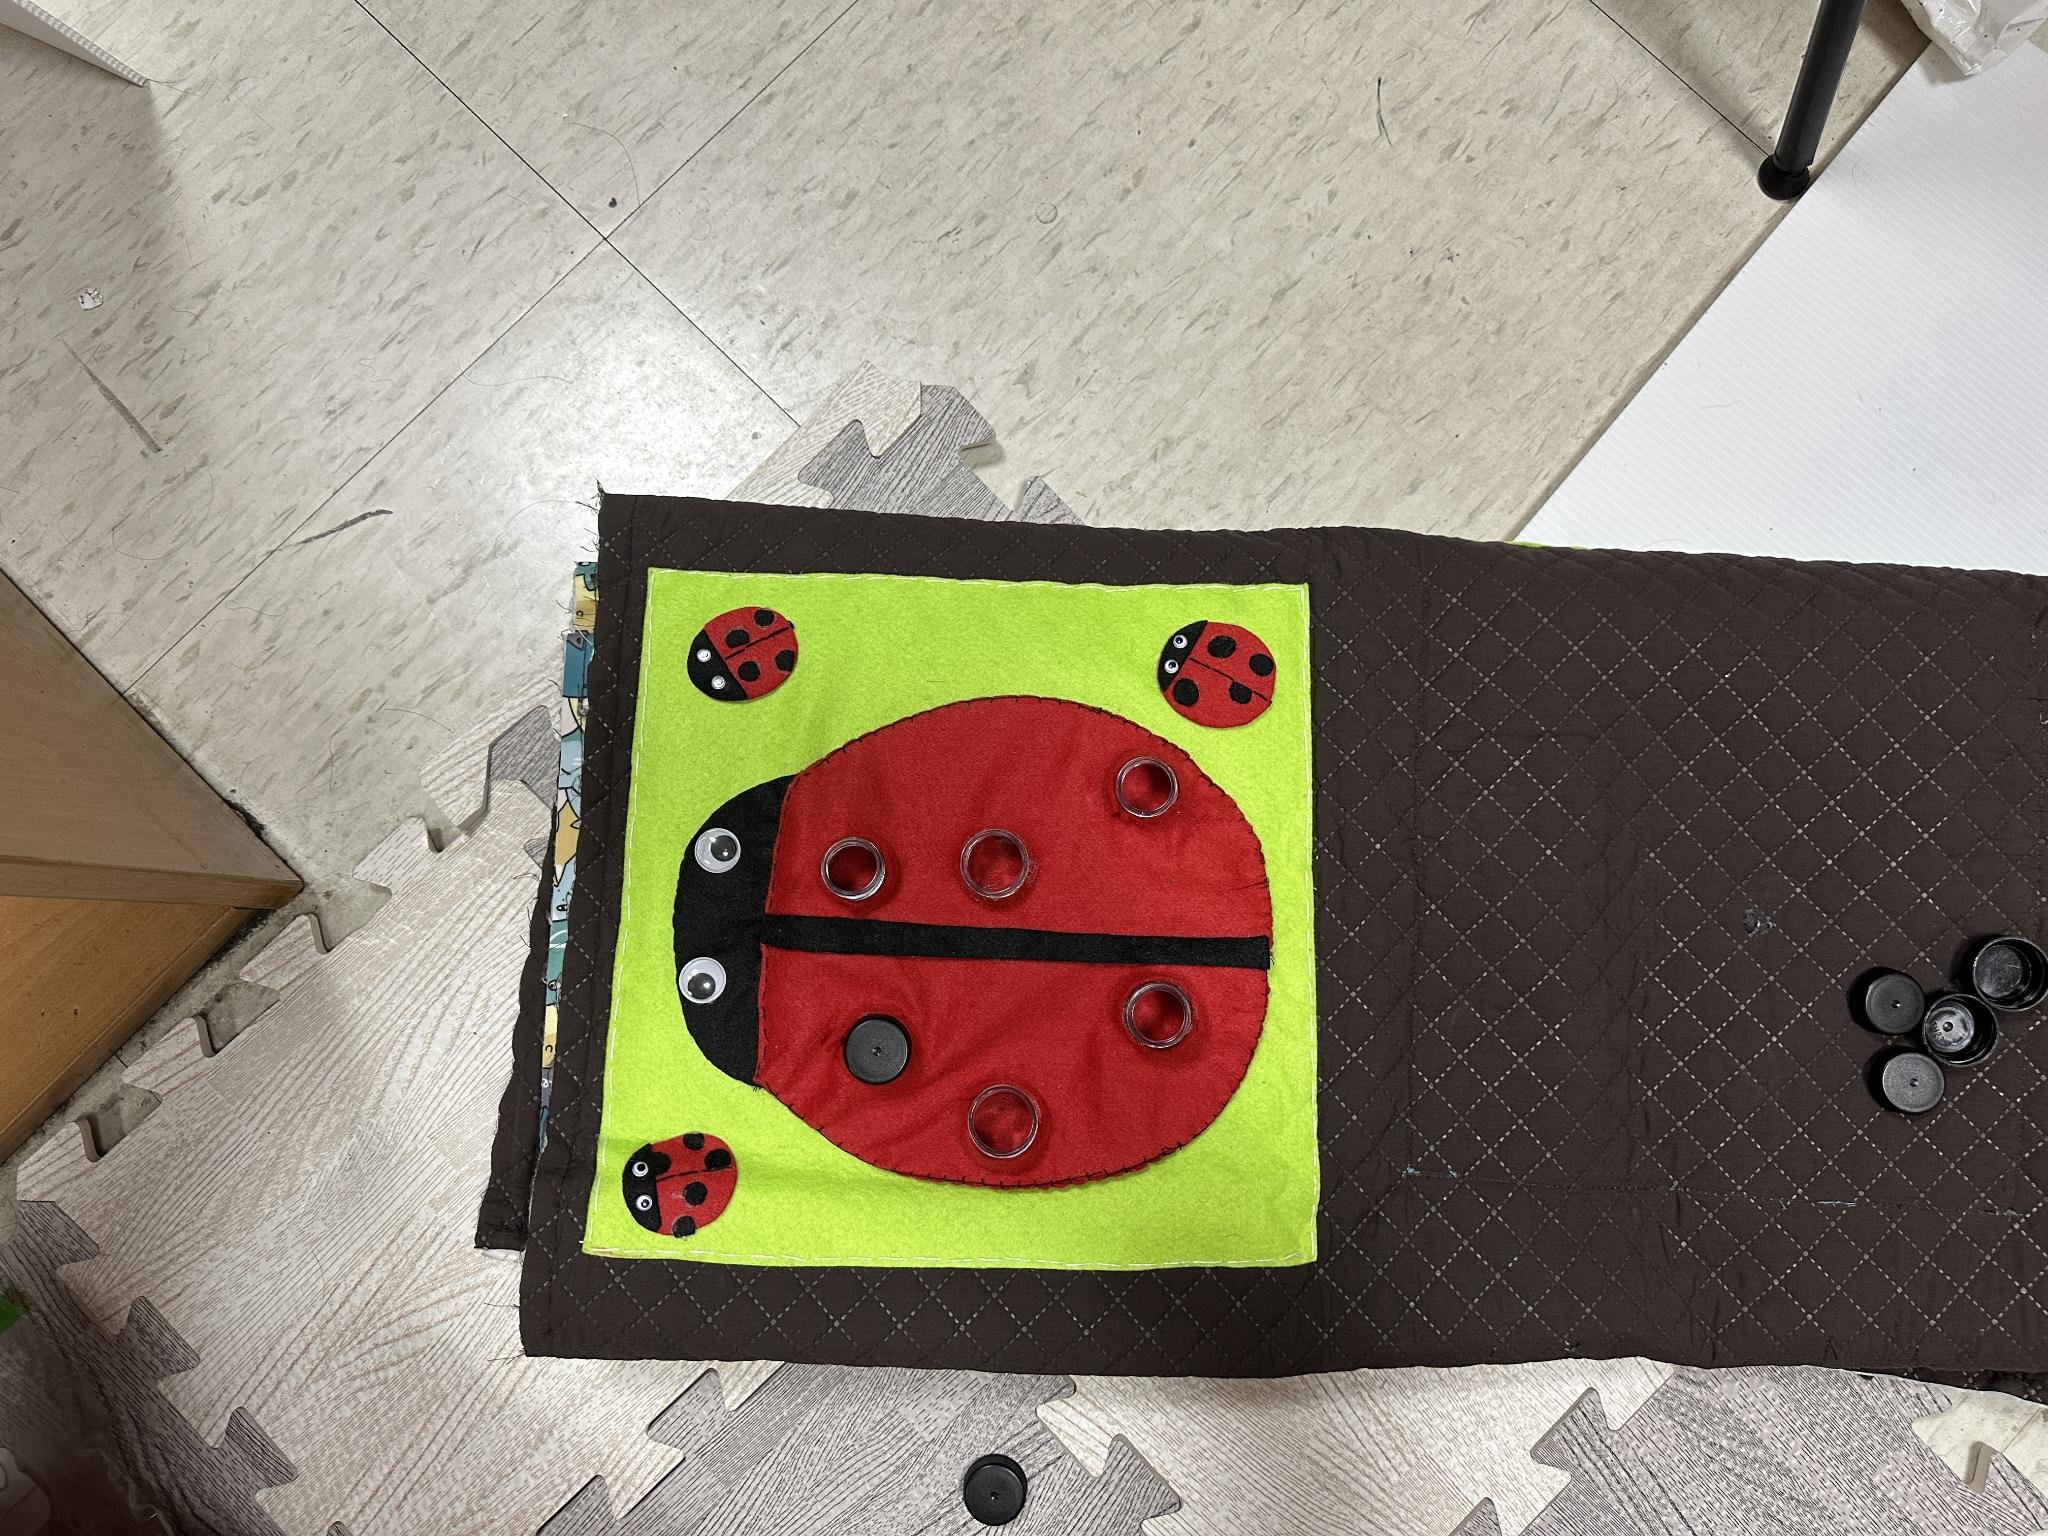cap_ok: (816, 991, 932, 1112)
